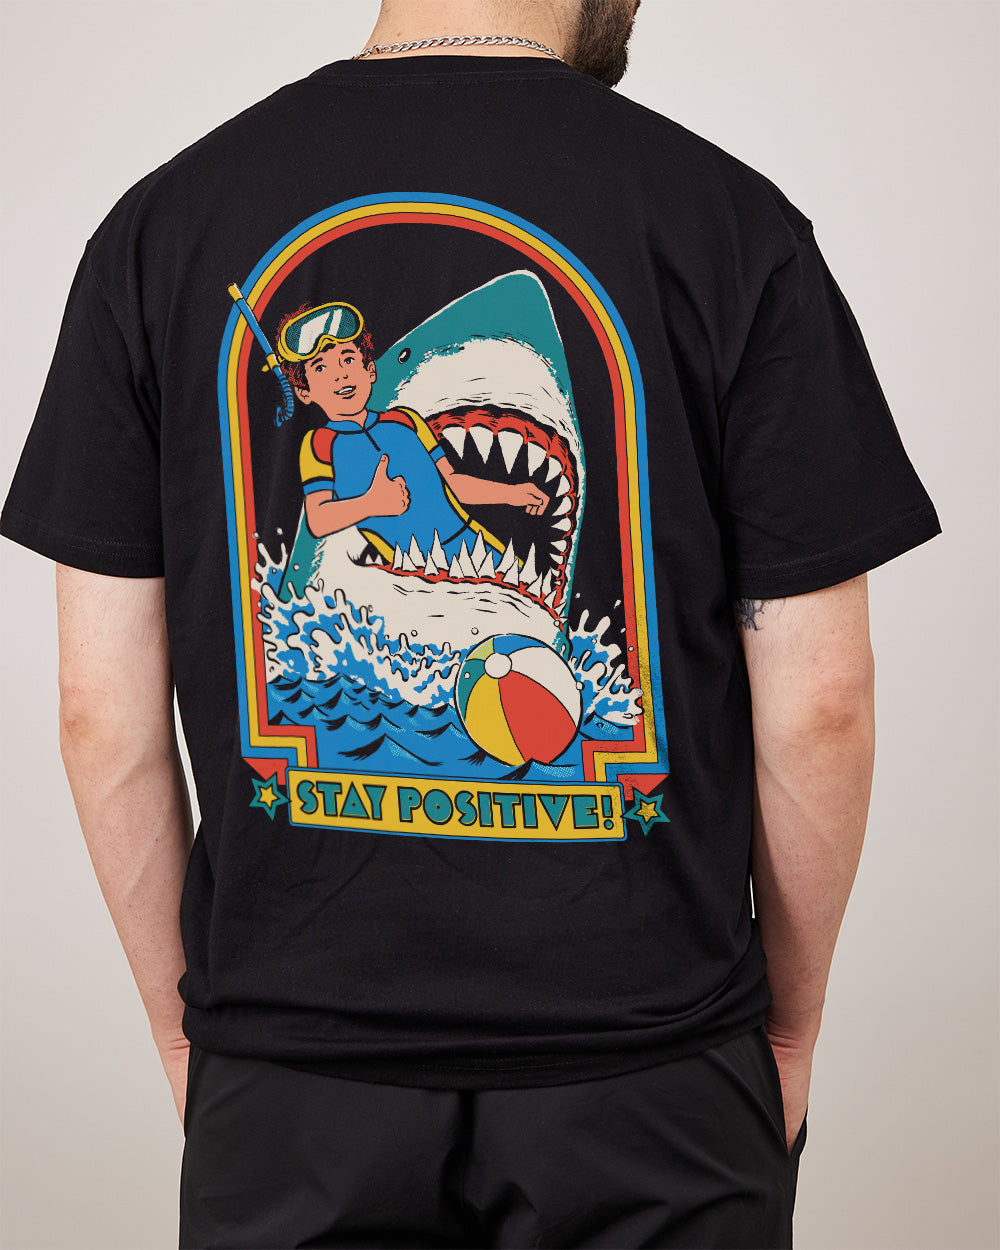design: (208, 185, 682, 850)
